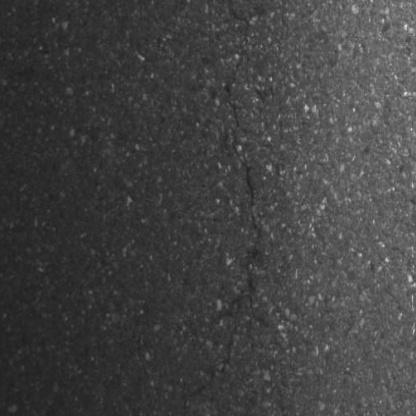Cracks: (180, 102, 277, 416), (209, 0, 256, 32)
